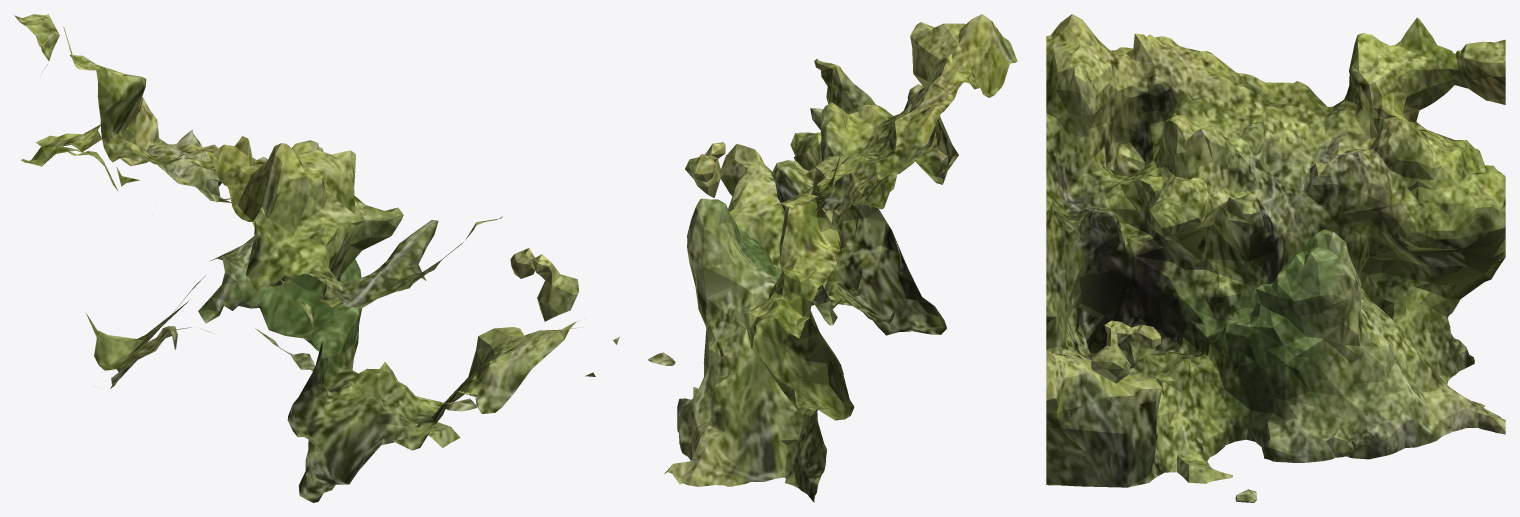
3 views of the same model, side by side, from view 1: azimuth 30°, elevation 25°; view 2: azimuth 150°, elevation 25°; view 3: azimuth 270°, elevation 25° (orthographic). The views are drawn at different scales.
Bounding box in the file's own units: 4.74 × 5.13 × 5.9.
4 materials, 4 textured.
